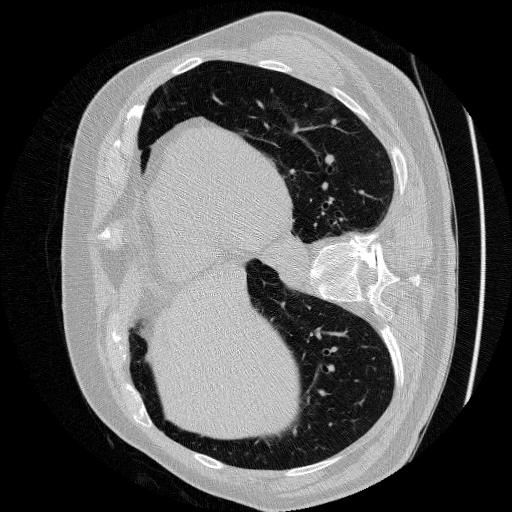nodule: (328, 118, 340, 130)
